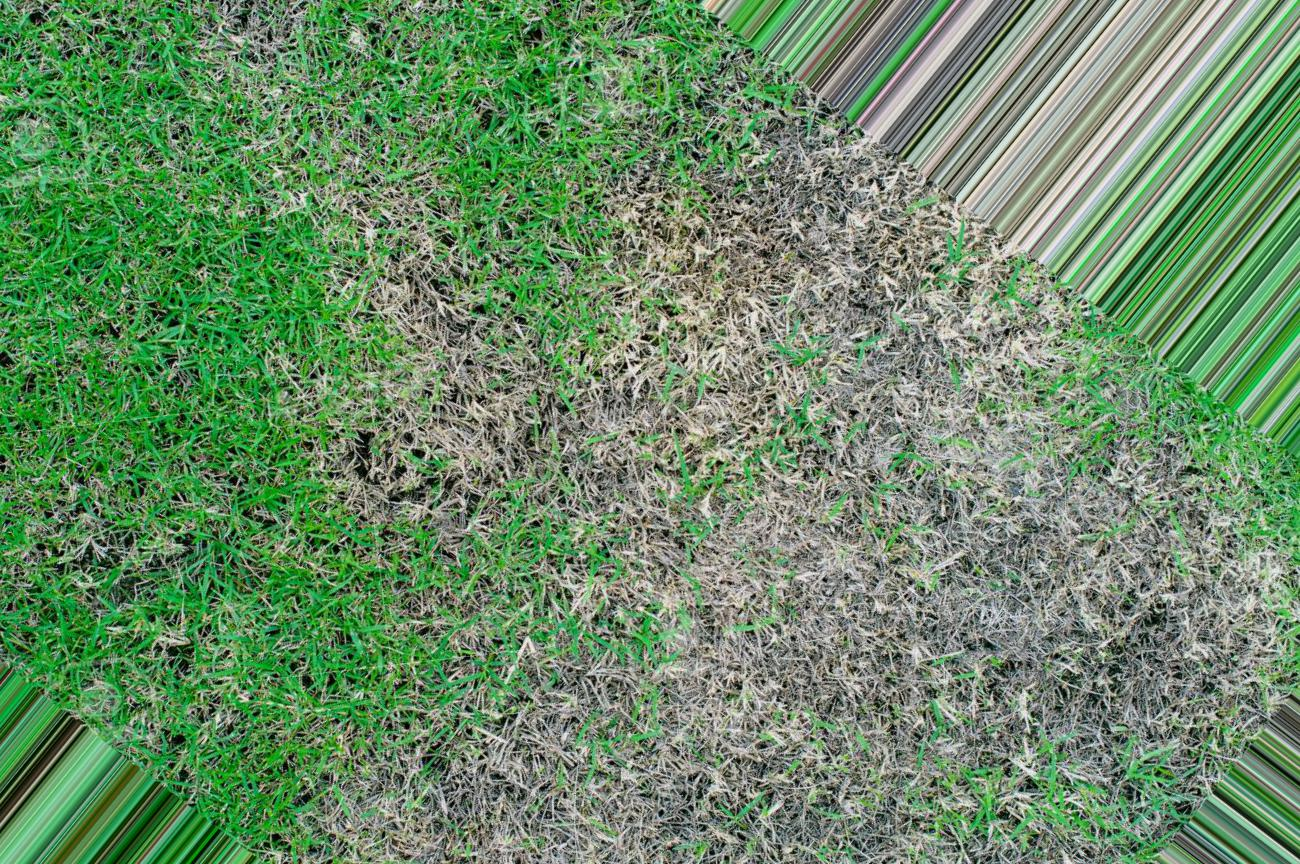patch: (713, 267, 1035, 603)
